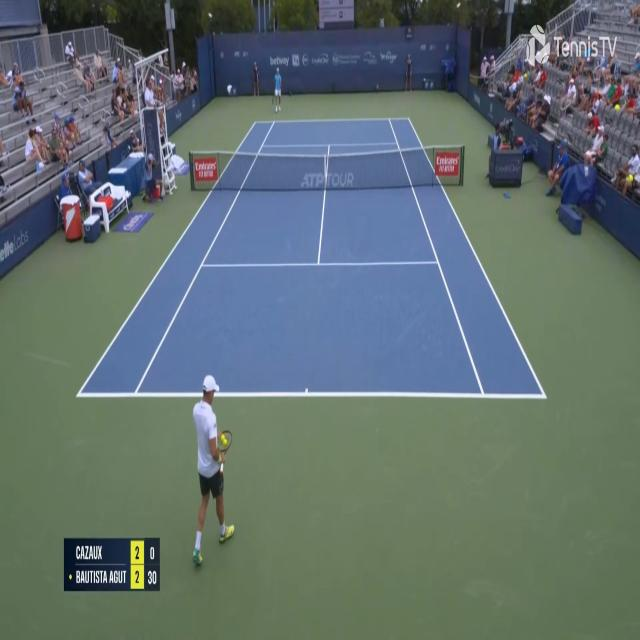tennis-player: (189, 371, 237, 571), (272, 65, 283, 113)
